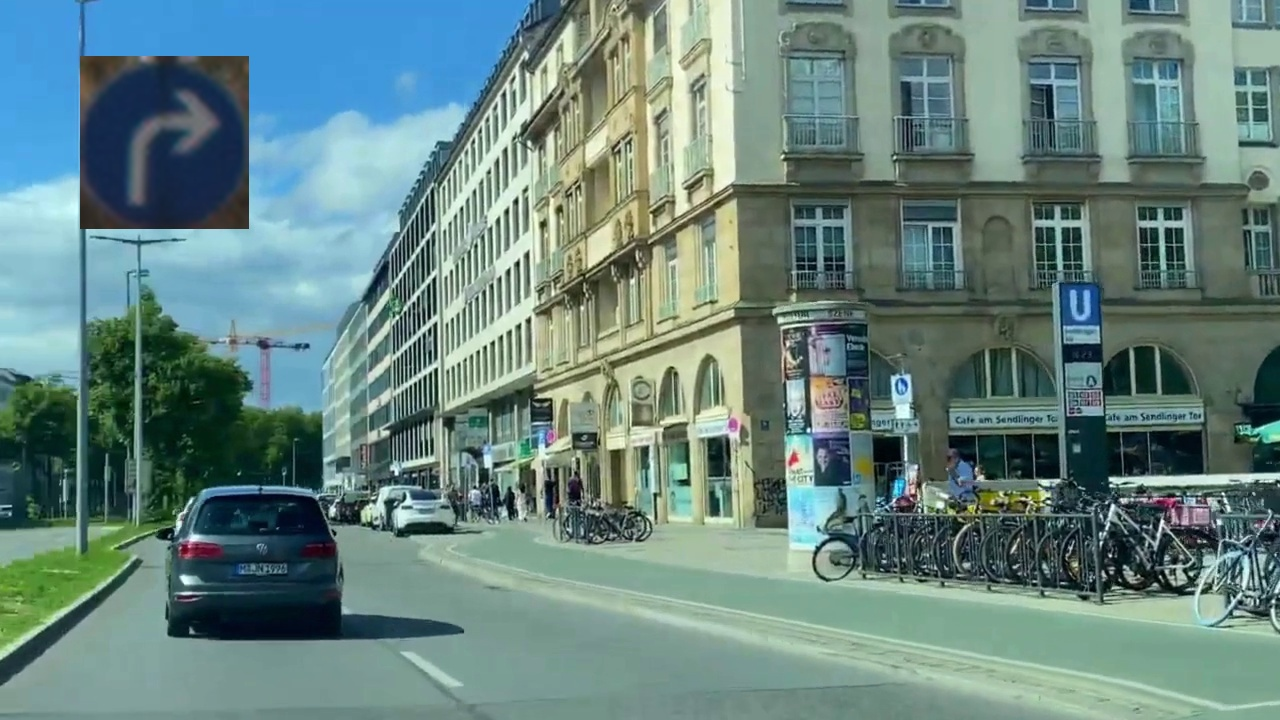Turn right: (80, 56, 249, 229)
